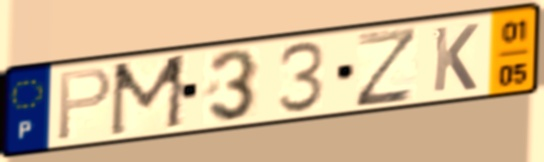3: (198, 46, 264, 126), (276, 39, 328, 115)
K: (430, 21, 481, 95)
M: (106, 51, 192, 140)
P: (55, 65, 116, 144)
Z: (352, 23, 421, 110)
